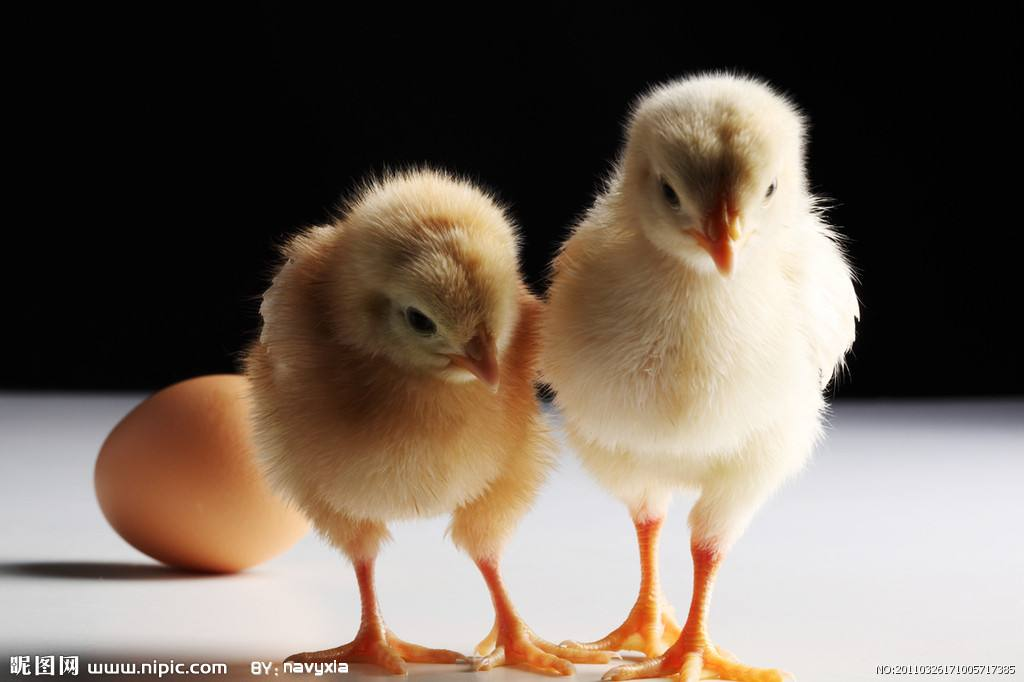chicken: (212, 144, 623, 676), (540, 70, 864, 682)
